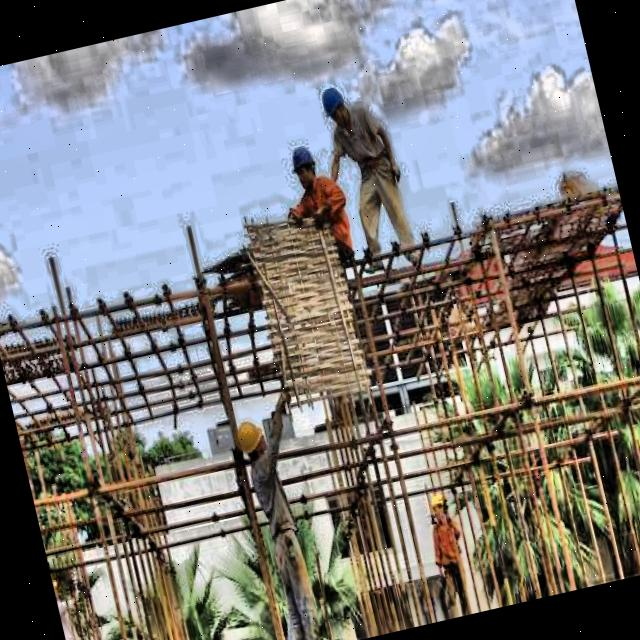helmet: (232, 411, 276, 465), (286, 137, 326, 196), (316, 80, 357, 134), (426, 490, 456, 530)
